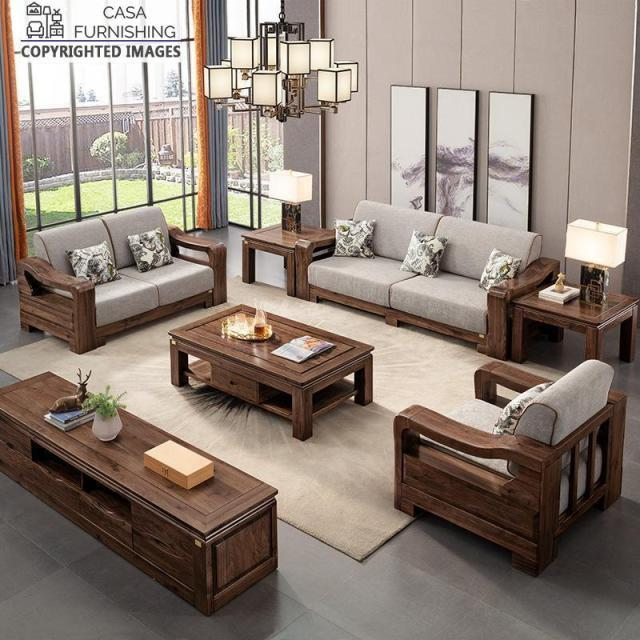sofa: (372, 338, 640, 574), (306, 198, 560, 360), (16, 204, 227, 354)
